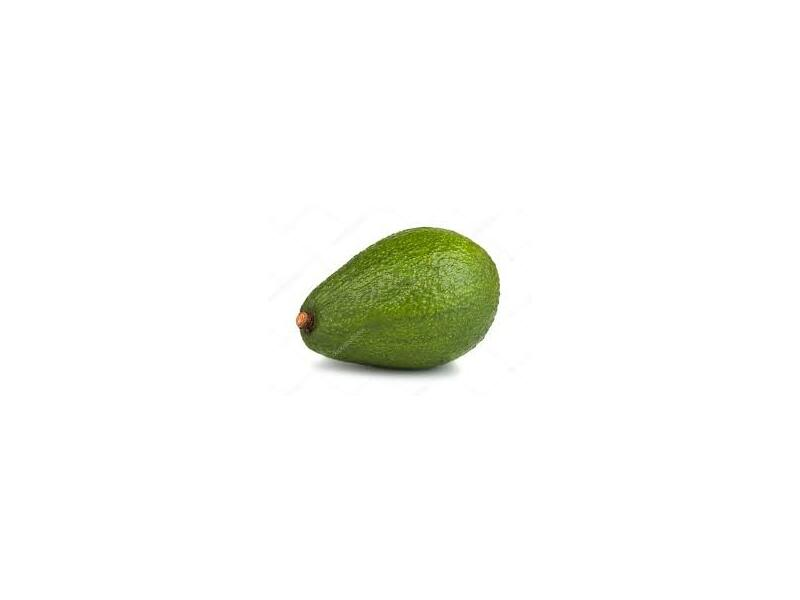abacate: (303, 222, 503, 370)
